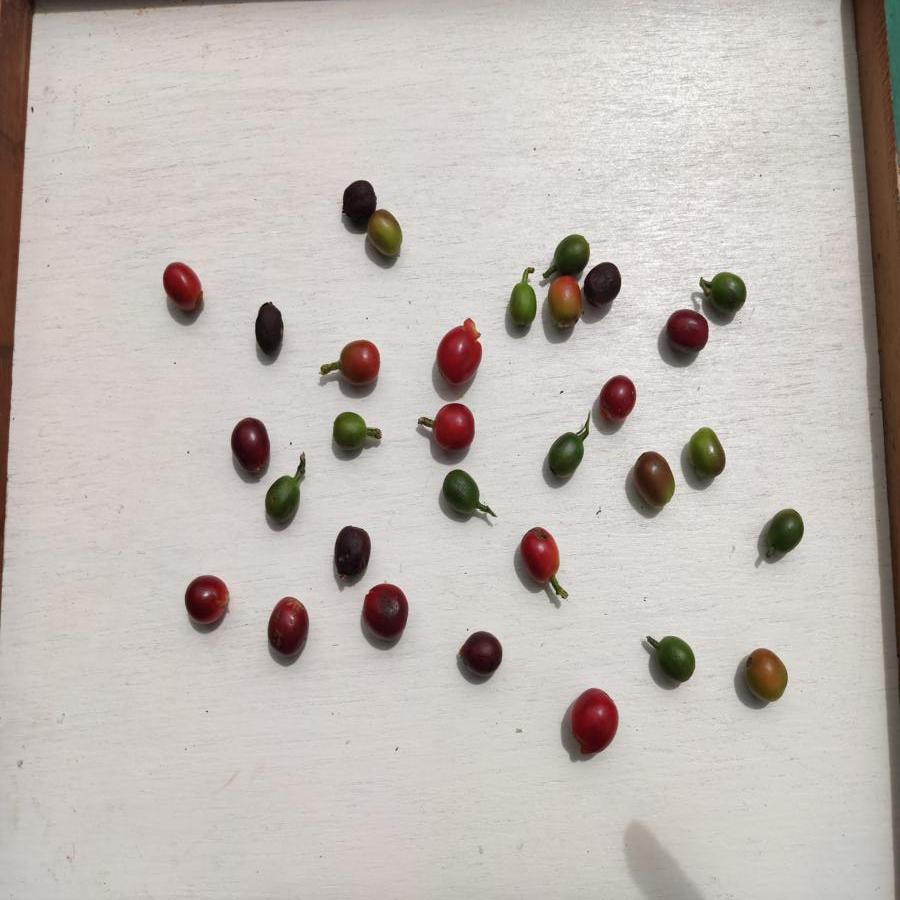Inmaduro: (655, 635, 698, 685), (262, 476, 305, 526), (441, 468, 481, 520), (703, 271, 747, 317), (544, 430, 585, 479), (765, 508, 807, 555), (328, 412, 371, 454), (507, 283, 539, 330), (553, 234, 588, 274)
Maduro: (568, 686, 617, 753), (435, 319, 482, 387), (515, 526, 561, 586), (160, 259, 205, 315), (427, 401, 476, 452), (338, 338, 383, 389)
Pinton: (739, 645, 789, 705), (630, 450, 674, 509), (685, 426, 728, 481), (545, 276, 582, 332), (367, 209, 405, 261)
Sobremaduro: (359, 582, 411, 644), (264, 595, 308, 659), (182, 571, 229, 626), (457, 629, 504, 678), (231, 413, 268, 474), (663, 306, 710, 354), (596, 373, 639, 423), (332, 525, 371, 576), (584, 262, 621, 306), (341, 180, 373, 229), (255, 302, 283, 358)
